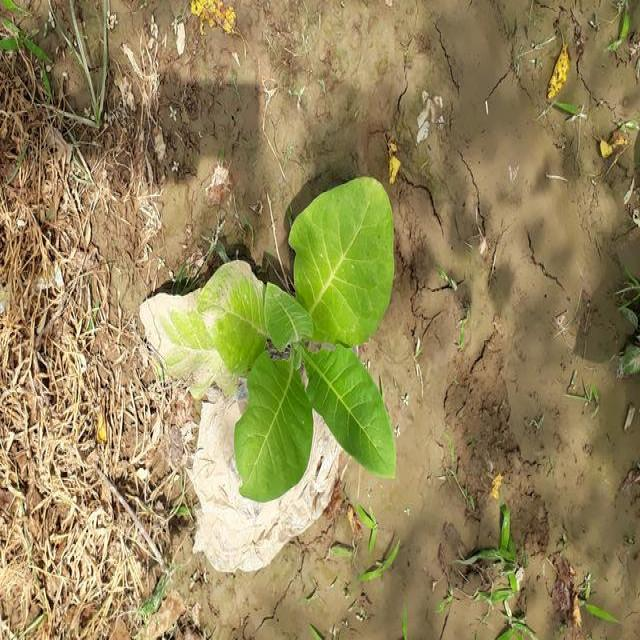crop: (134, 174, 398, 574)
